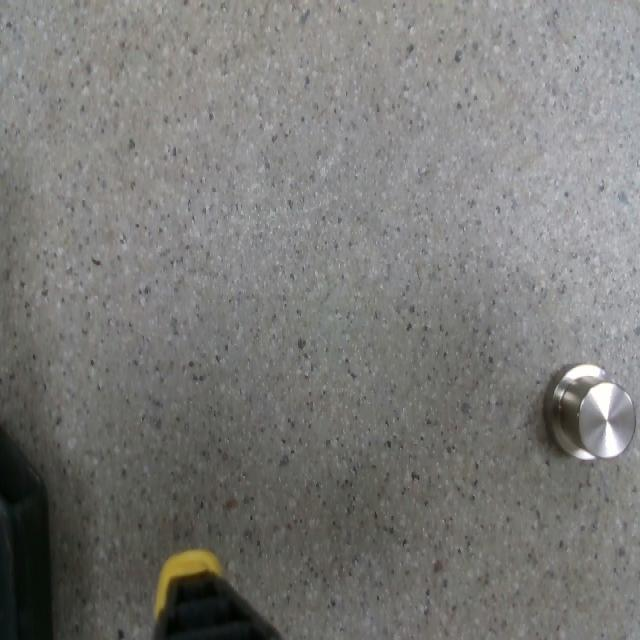sensor: (544, 362, 637, 462)
